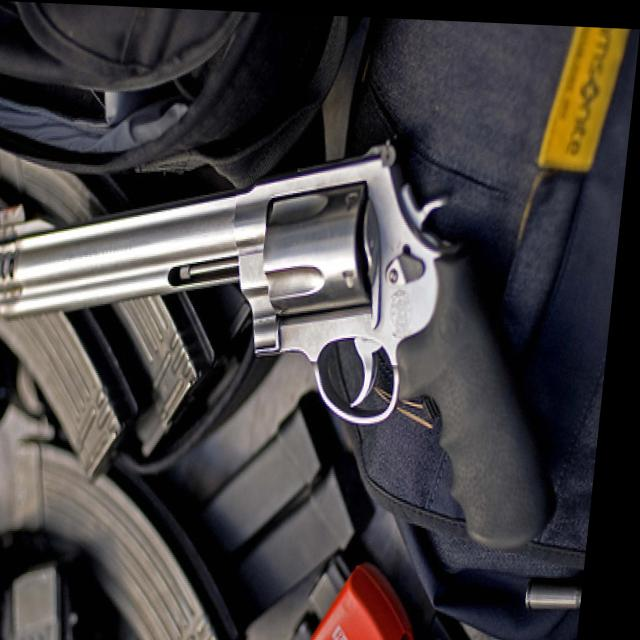handgun: (0, 121, 593, 552)
